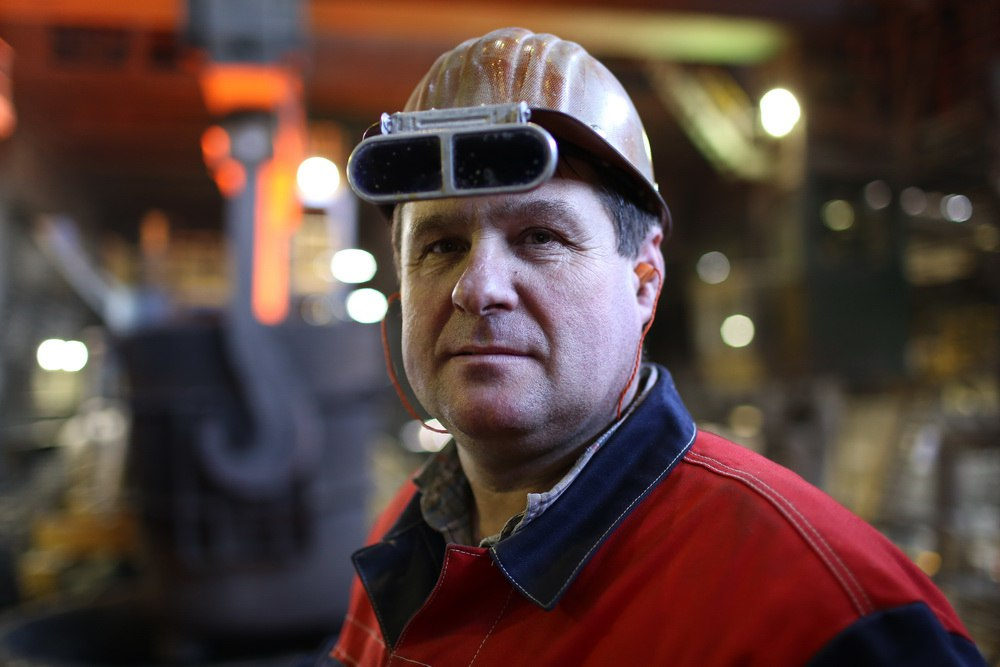person: (323, 26, 998, 667)
